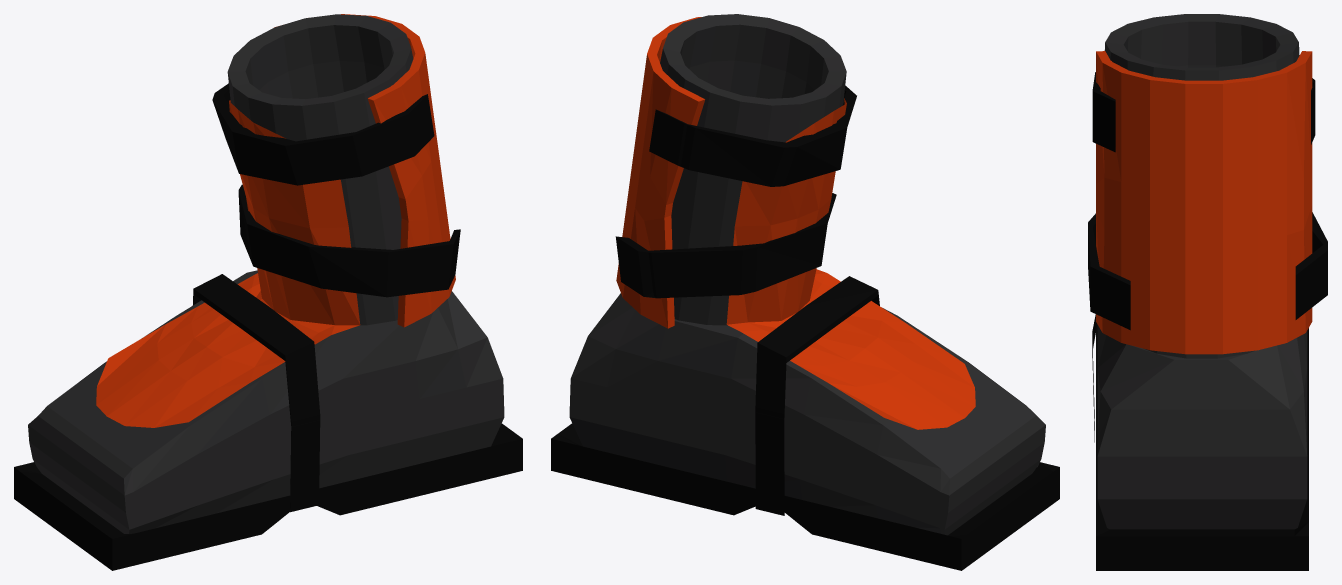
File: SkiBoot.obj
3 views of the same model, side by side, from view 1: azimuth 30°, elevation 25°; view 2: azimuth 150°, elevation 25°; view 3: azimuth 270°, elevation 25° (orthographic). The views are drawn at different scales.
Parts seen in each view (by area): view 1: Cube.001_Cube.002, Cube.002_Cube.003, Plane, Cylinder.001_Cylinder.004, Cube_Cube.006, Cube.003_Cube.008, Cylinder_Cylinder.006; view 2: Cube.001_Cube.002, Cube.002_Cube.003, Cylinder.001_Cylinder.004, Plane, Cube.003_Cube.008, Cylinder_Cylinder.006, Cube_Cube.006; view 3: Cylinder_Cylinder.006, Cube.001_Cube.002, Cylinder.001_Cylinder.004, Cube.002_Cube.003, Cube.003_Cube.008, Cube_Cube.006.
Part boxes in pixels (x1,y1,x2,y2): Cube.001_Cube.002: (28, 270, 504, 533); Cube.002_Cube.003: (14, 274, 522, 570); Plane: (96, 100, 360, 427); Cylinder.001_Cylinder.004: (227, 14, 413, 325); Cube_Cube.006: (212, 83, 434, 185); Cube.003_Cube.008: (238, 184, 460, 297); Cylinder_Cylinder.006: (274, 14, 455, 327); Cube.001_Cube.002: (569, 293, 1045, 535); Cube.002_Cube.003: (551, 276, 1059, 570); Cylinder.001_Cylinder.004: (660, 14, 846, 325); Plane: (726, 98, 975, 429); Cube.003_Cube.008: (615, 193, 836, 298); Cylinder_Cylinder.006: (616, 17, 705, 328); Cube_Cube.006: (649, 85, 856, 186); Cylinder_Cylinder.006: (1096, 51, 1312, 354); Cube.001_Cube.002: (1097, 325, 1307, 529); Cylinder.001_Cylinder.004: (1104, 14, 1299, 358); Cube.002_Cube.003: (1092, 314, 1308, 570); Cube.003_Cube.008: (1088, 212, 1327, 330); Cube_Cube.006: (1092, 72, 1315, 152).
Size of the model in its own units: 5.53 by 5.47 by 2.58.
